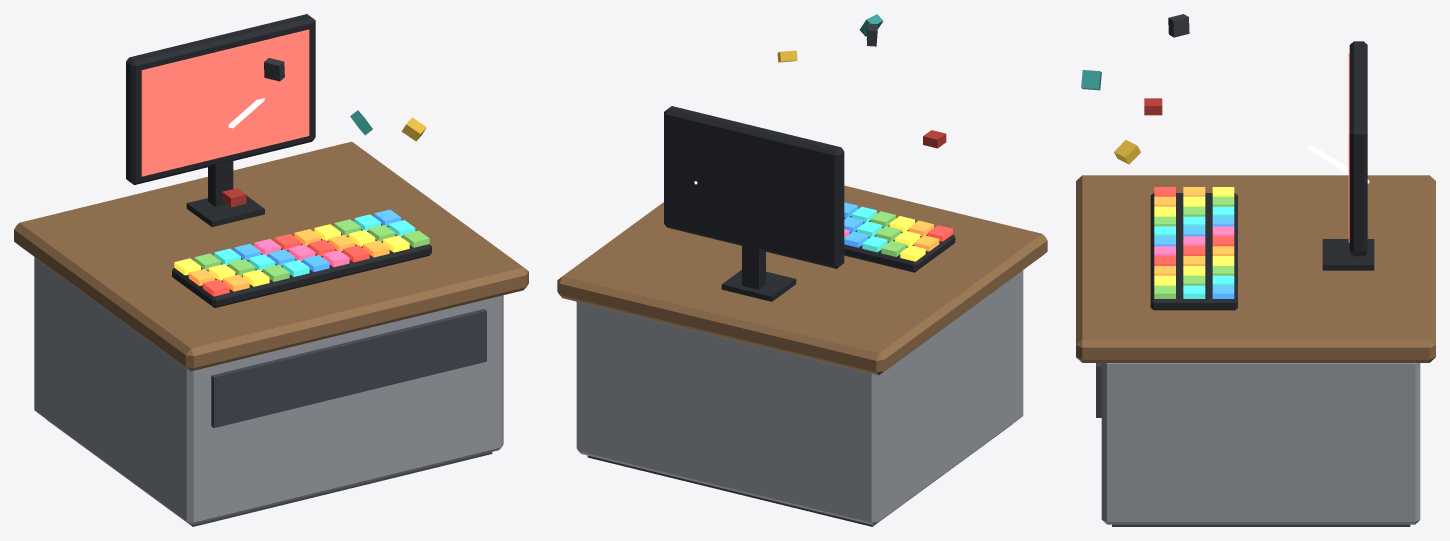
The model's file is keyboardsmash_2.glb.
The picture shows the model from 3 angles, left to right: view 1: azimuth 30°, elevation 25°; view 2: azimuth 150°, elevation 25°; view 3: azimuth 270°, elevation 25°; orthographic projection. The views are drawn at different scales.
Visible parts, largest first — view 1: keyboardsmash_2_mesh_Desk, keyboardsmash_2_mesh; view 2: keyboardsmash_2_mesh_Desk, keyboardsmash_2_mesh; view 3: keyboardsmash_2_mesh_Desk, keyboardsmash_2_mesh.
Part boxes in pixels (x1=…): keyboardsmash_2_mesh_Desk: x1=14, y1=141, x2=528, y2=526; keyboardsmash_2_mesh: x1=126, y1=14, x2=431, y2=307; keyboardsmash_2_mesh_Desk: x1=557, y1=185, x2=1047, y2=526; keyboardsmash_2_mesh: x1=664, y1=14, x2=955, y2=301; keyboardsmash_2_mesh_Desk: x1=1076, y1=175, x2=1435, y2=526; keyboardsmash_2_mesh: x1=1081, y1=14, x2=1374, y2=310.
Size of the model in its own units: 0.78 by 0.8982 by 0.7.
